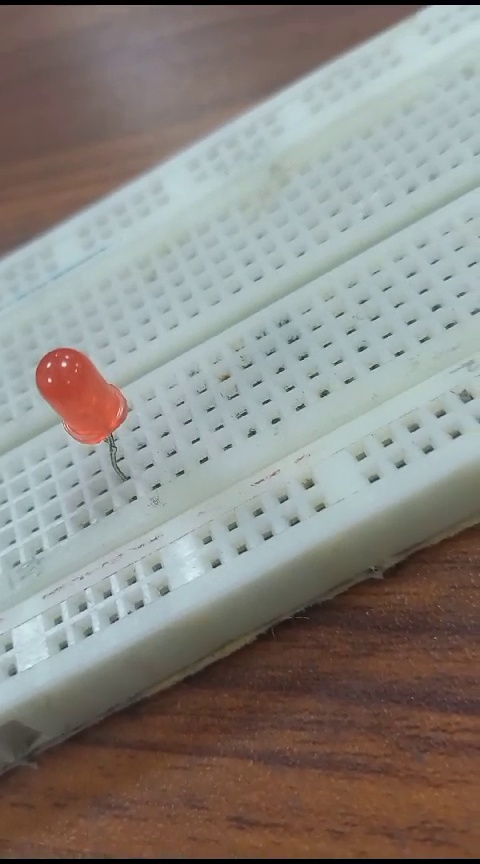LED: (24, 343, 128, 496)
